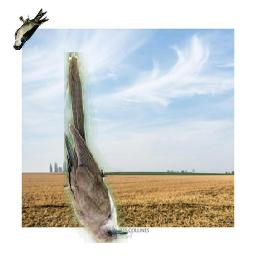Cuckoo: (64, 53, 128, 244)
Swallow: (13, 8, 49, 50)
